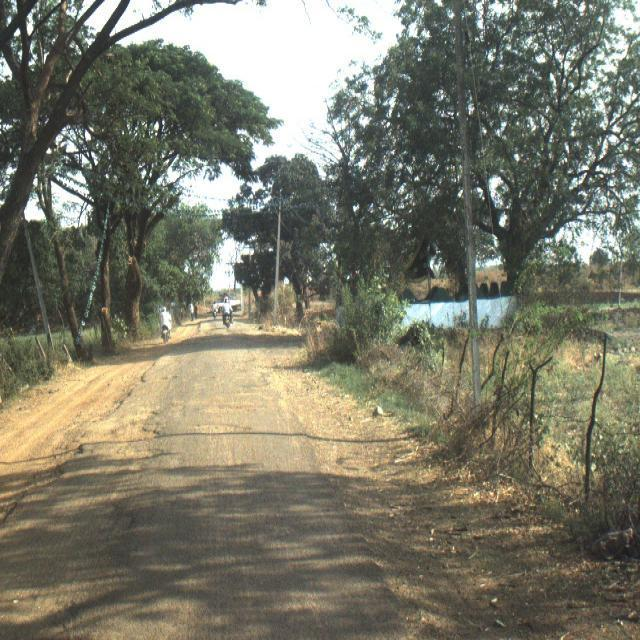Pothole: (74, 419, 170, 515), (196, 399, 276, 484)
